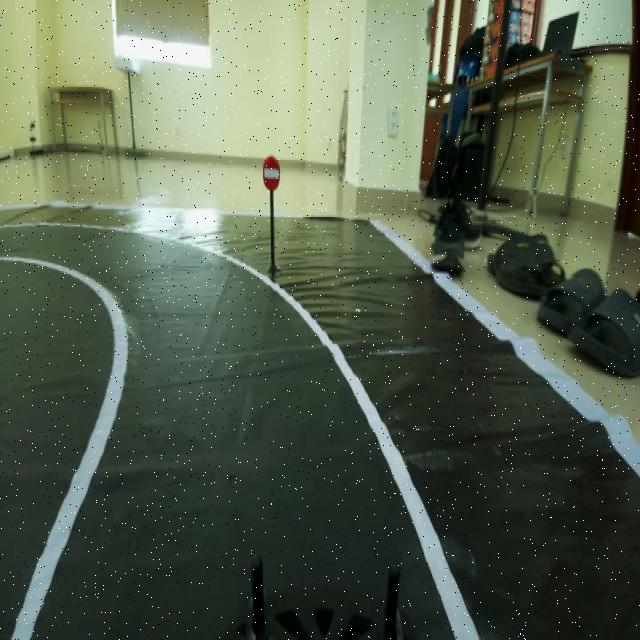no_entry: (260, 146, 288, 200)
